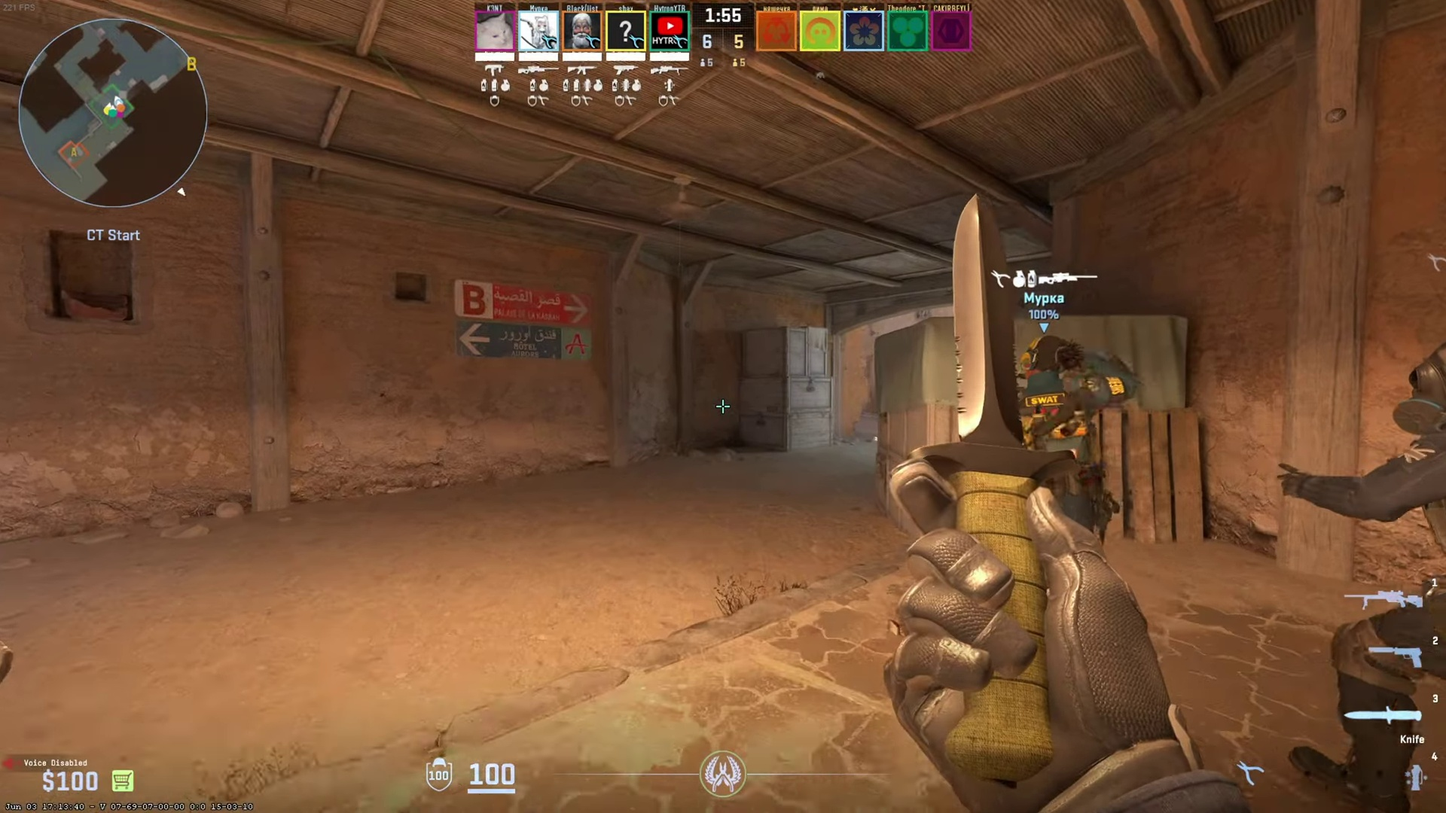CT: (1316, 343, 1446, 811), (1018, 336, 1112, 540)
